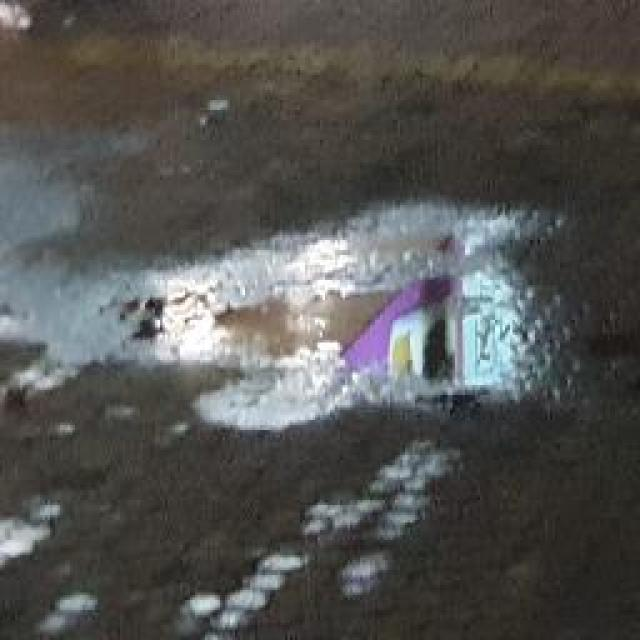puddle: (219, 269, 533, 397)
